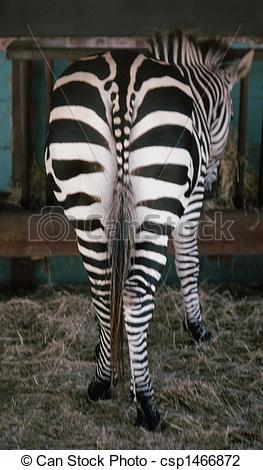zebra: (44, 31, 250, 427)
